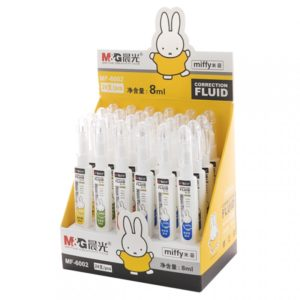Correction_fluid: (174, 126, 203, 245), (88, 118, 117, 233), (109, 117, 134, 229), (153, 126, 177, 239), (134, 123, 157, 234), (74, 116, 93, 230)
